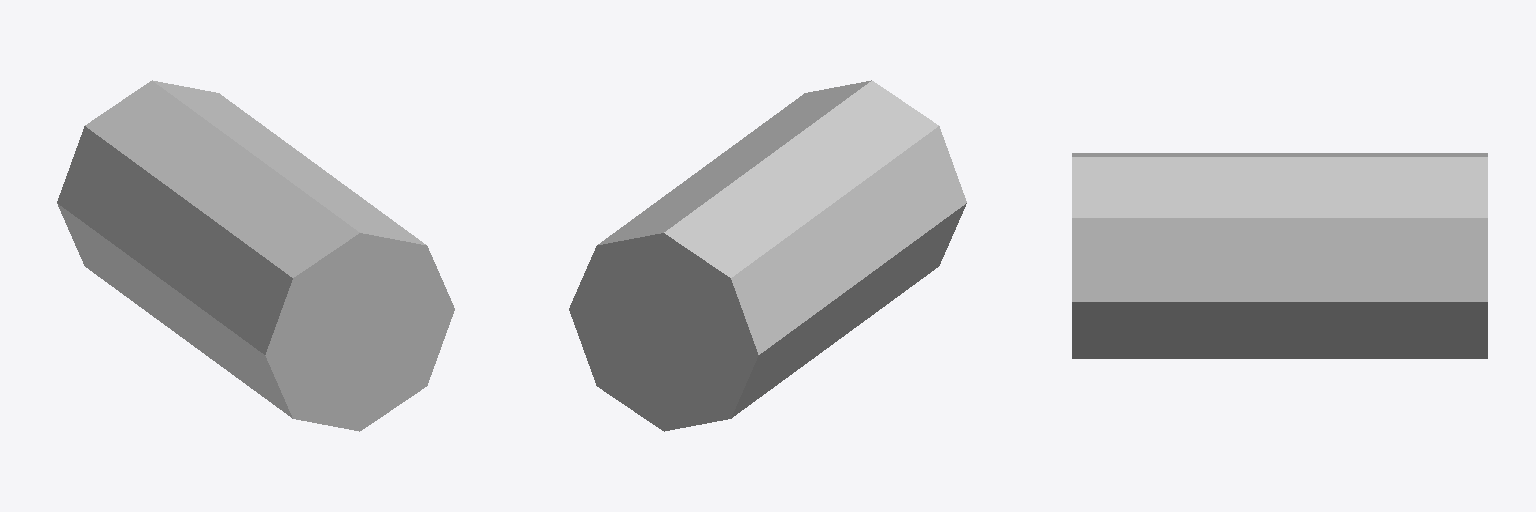
File: aws_CrashworthBucket_01_collision.obj
The picture shows the model from 3 angles: view 1: azimuth 30°, elevation 25°; view 2: azimuth 150°, elevation 25°; view 3: azimuth 270°, elevation 25°; orthographic projection.
Size of the model in its own units: 77.44 by 77.44 by 147.